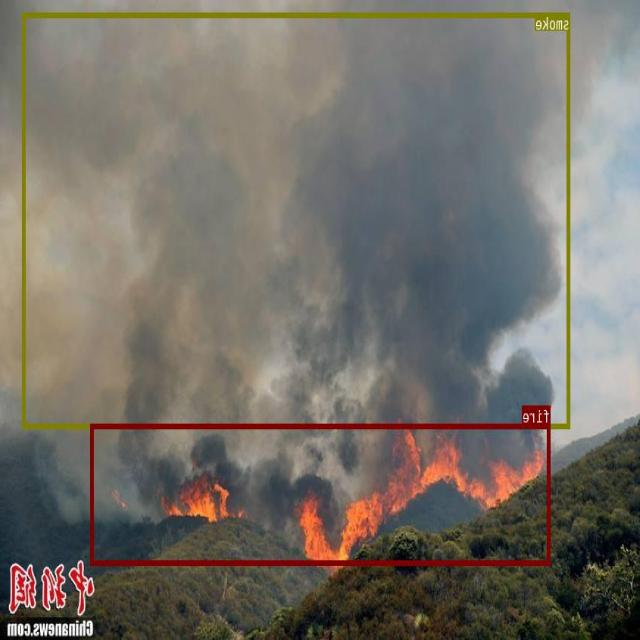fire: (91, 423, 552, 564)
smoke: (23, 12, 571, 428)
